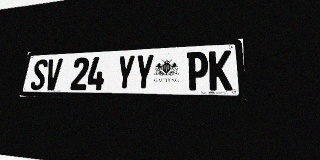2: (70, 57, 90, 90)
4: (86, 56, 106, 90)
K: (209, 50, 232, 90)
P: (186, 51, 208, 90)
S: (30, 59, 48, 90)
V: (44, 58, 63, 90)
Y: (115, 55, 136, 90), (134, 54, 154, 90)
